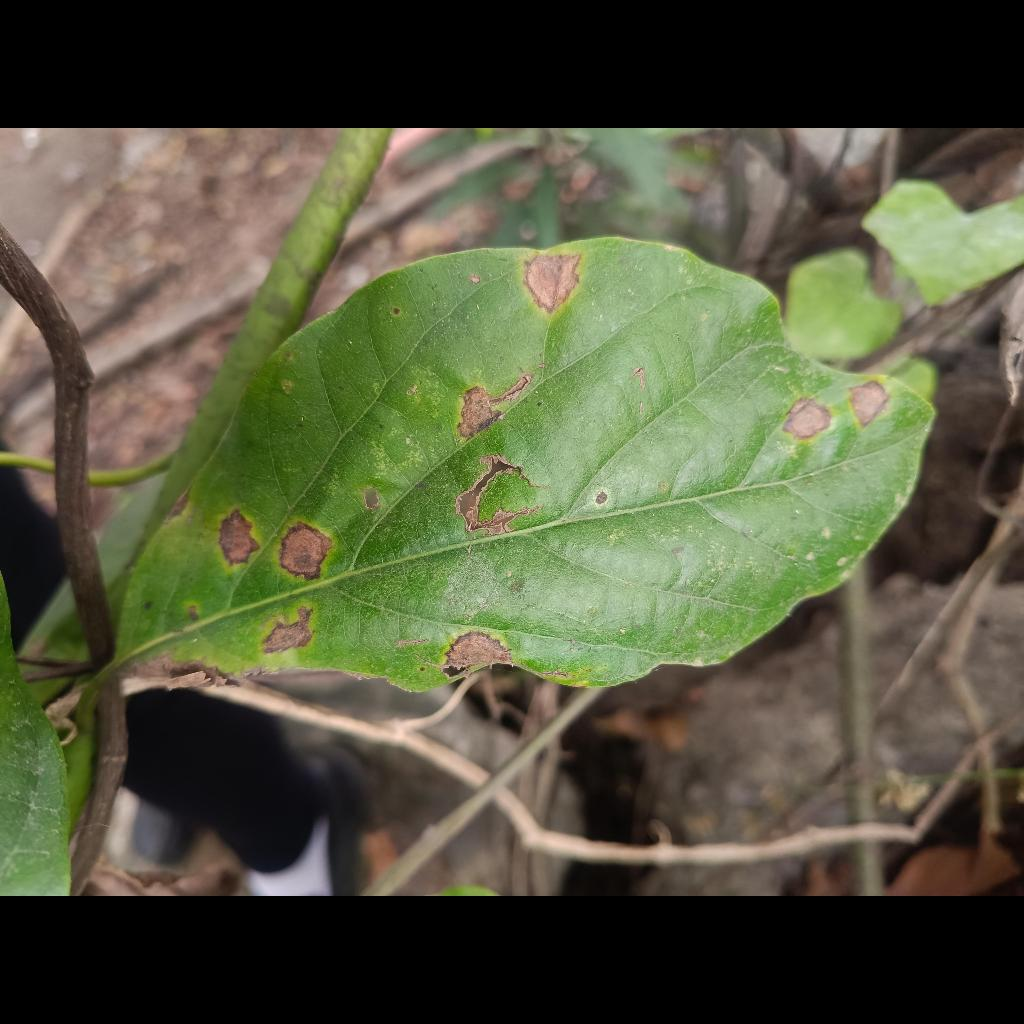Anthracnose: (119, 238, 933, 690)
